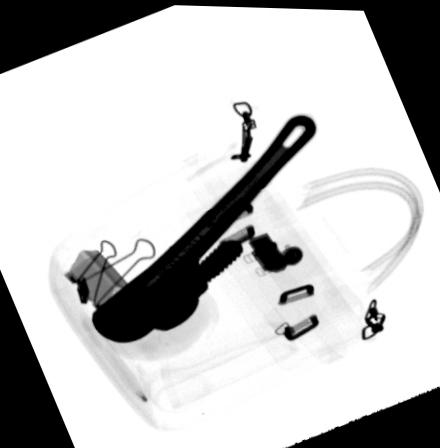Wrench: (90, 108, 319, 345)
